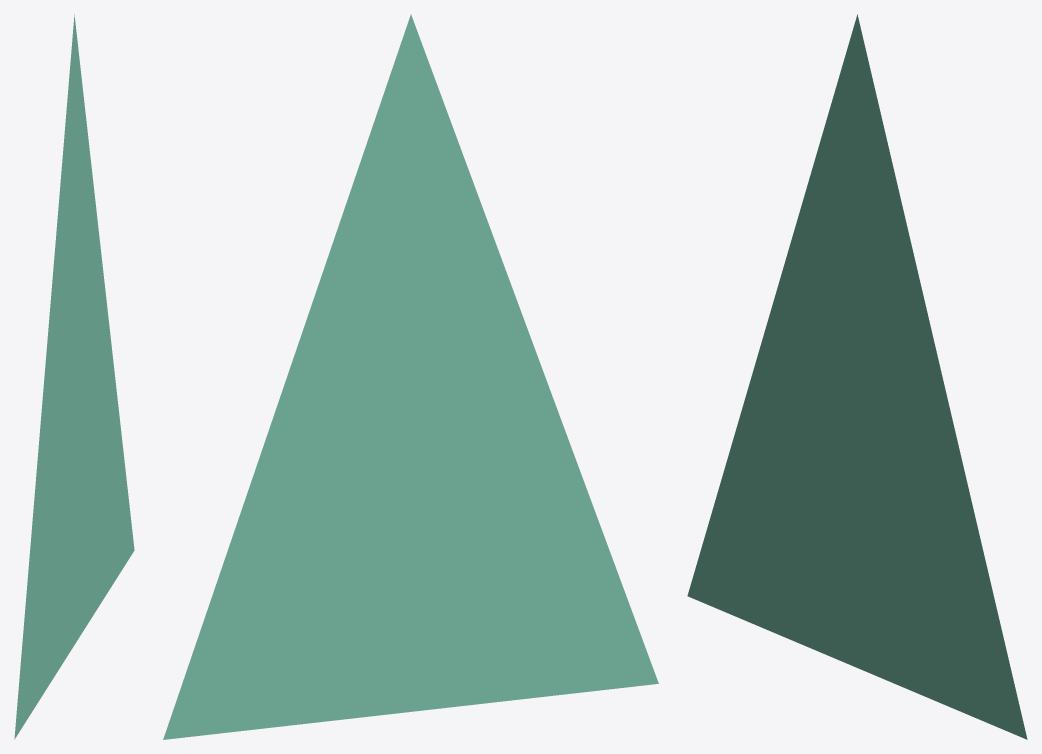
Rendered from embedded.gltf.
The picture shows the model from 3 angles, left to right: view 1: azimuth 30°, elevation 25°; view 2: azimuth 150°, elevation 25°; view 3: azimuth 270°, elevation 25°; orthographic projection. The views are drawn at different scales.
Bounding box in the file's own units: 0.7071 × 1.5 × 0.7071.
